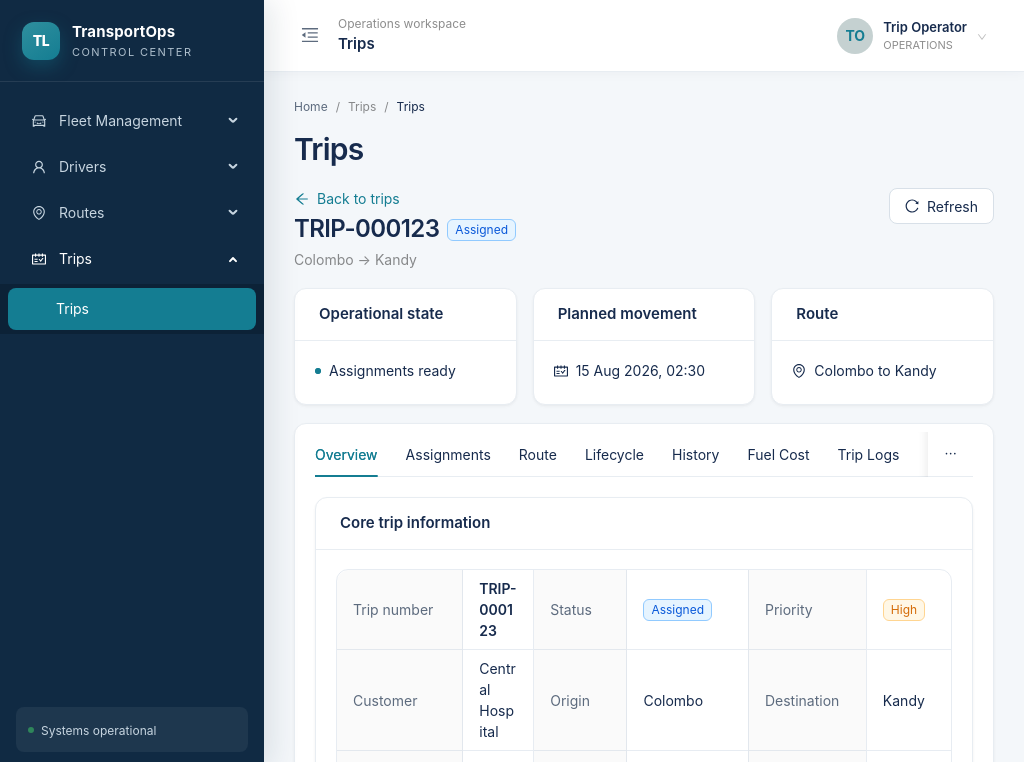
Test case: TripDetailsPage › shows backend route and history data in their sections
The width and height of the screenshot is (1024, 762).
Click the tab "Route" at [538, 454], box x1=519 y1=444 x2=557 y2=465
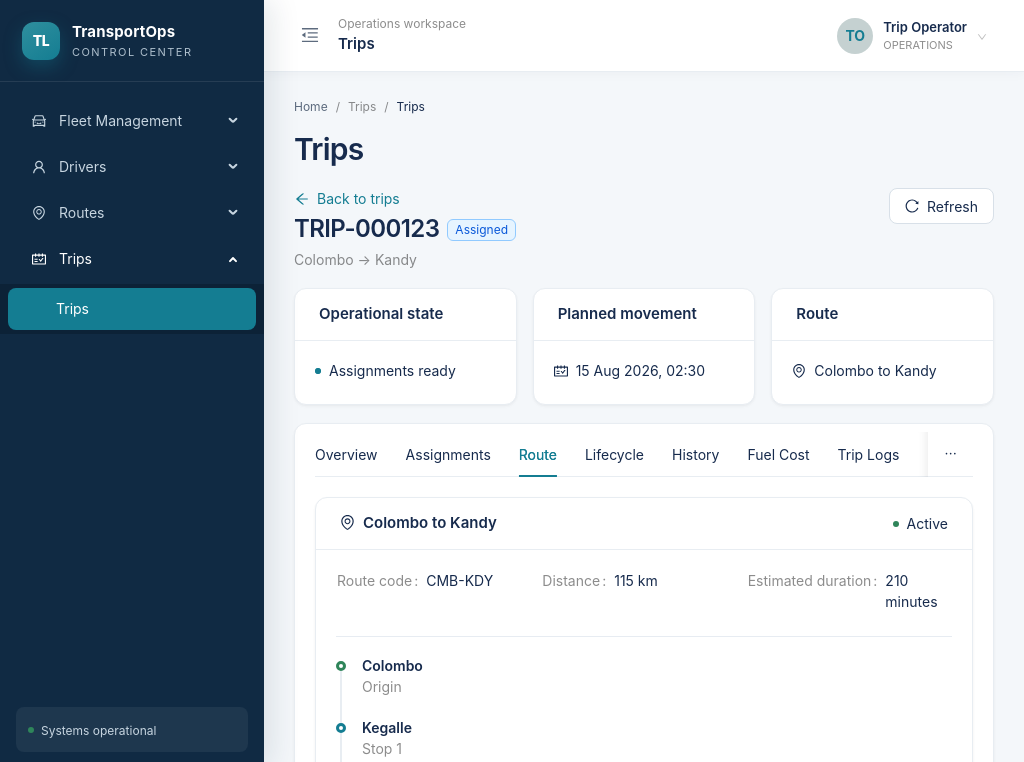
expect the text "Colombo to Kandy" next to "15 Aug 2026, 02:30" is shown: met, box x1=814 y1=362 x2=937 y2=379
expect the text "Kegalle" is shown: met, box x1=362 y1=719 x2=412 y2=736
Click the tab "History" at [696, 454], box x1=672 y1=444 x2=719 y2=465
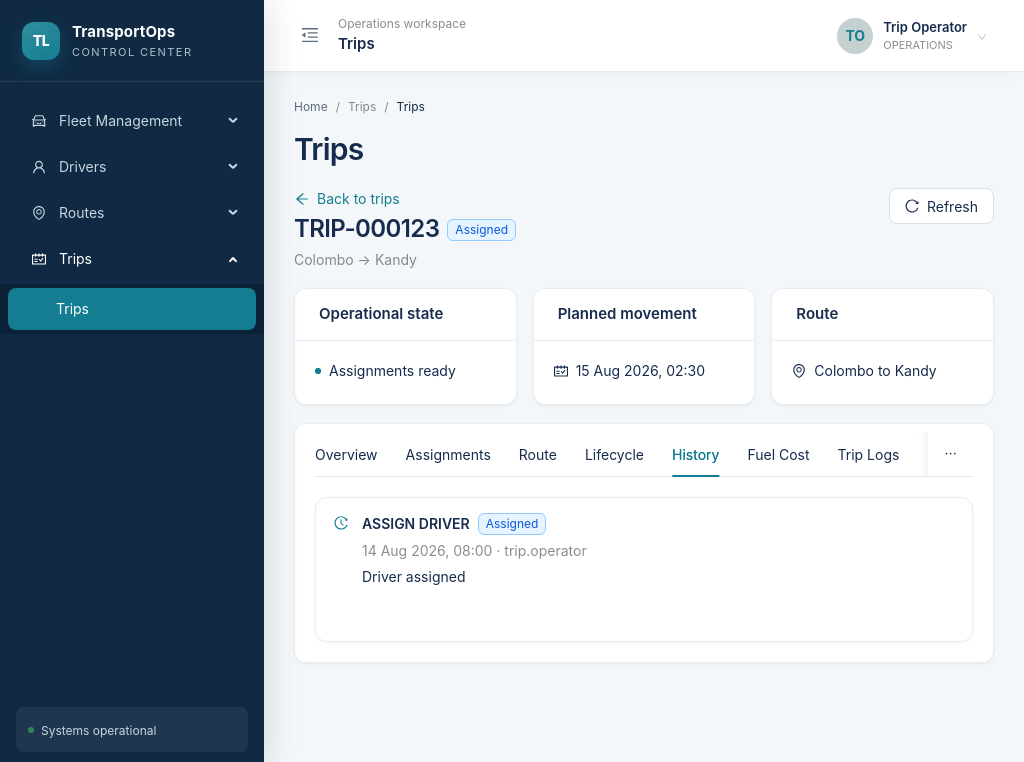
expect the text "ASSIGN DRIVER" is shown: met, box x1=362 y1=515 x2=470 y2=532
expect the text "14 Aug 2026, 08:00 · trip.operator" is shown: met, box x1=362 y1=542 x2=587 y2=559
